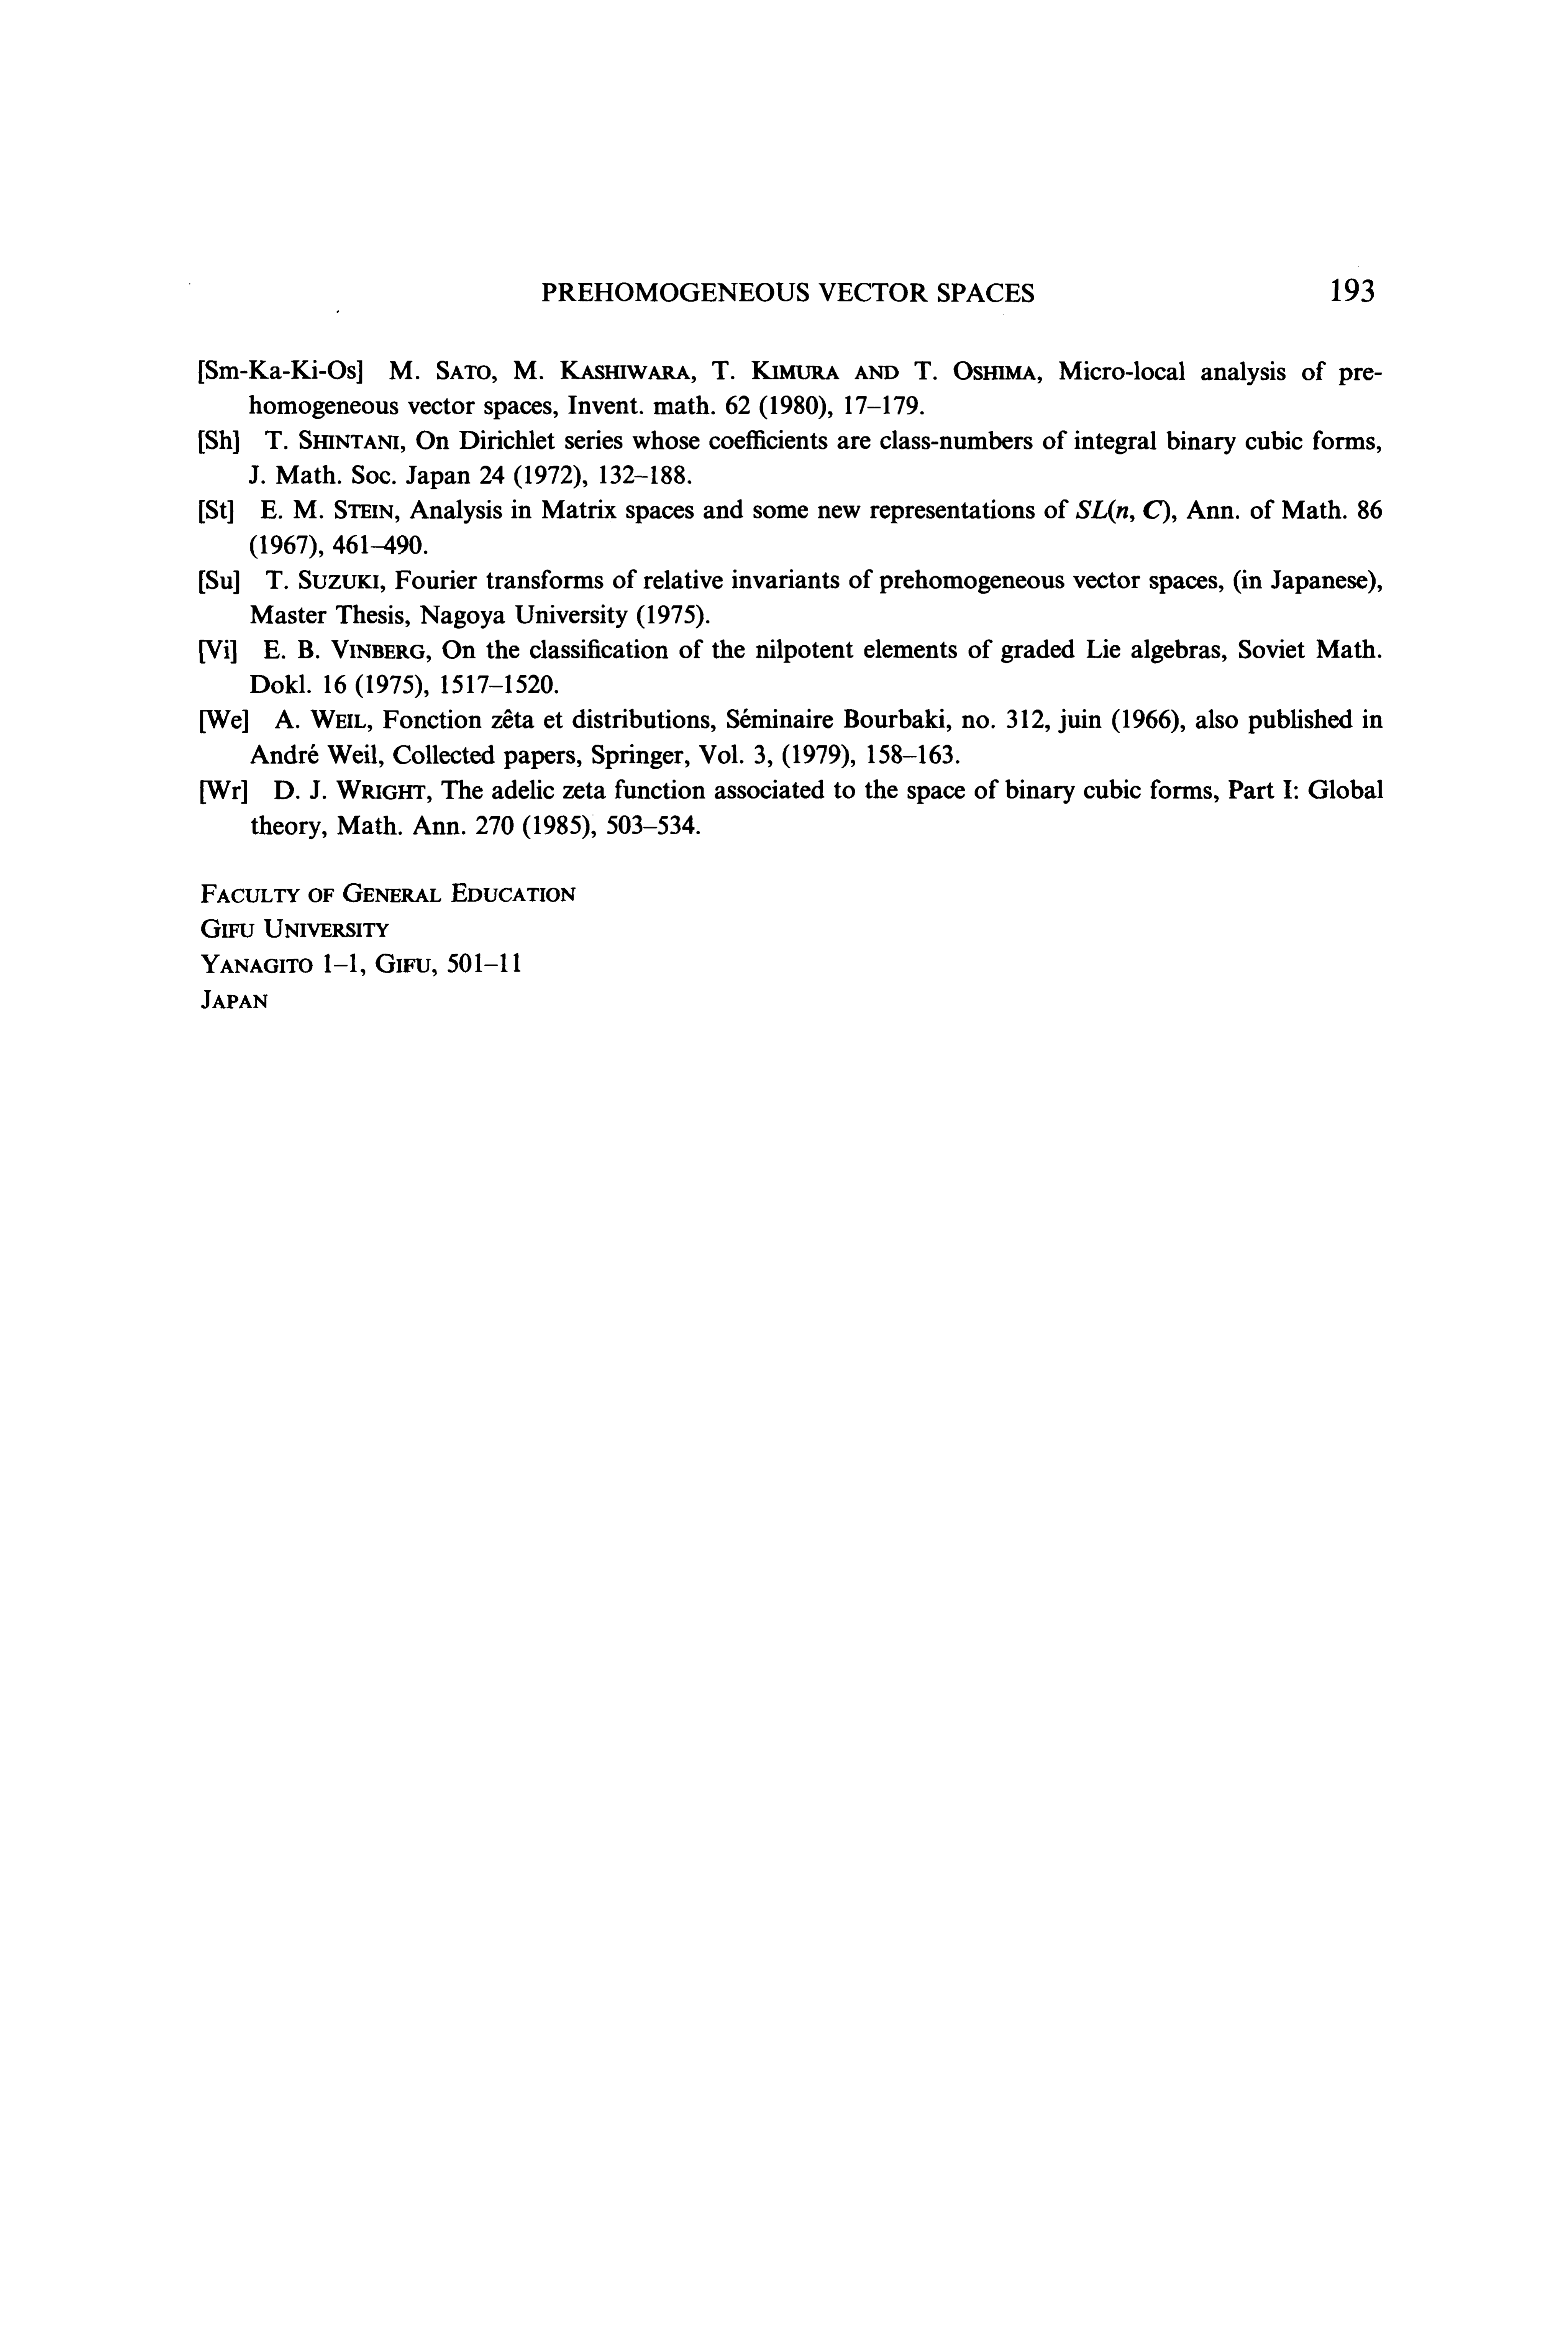maths: (1076, 499, 1169, 523)
